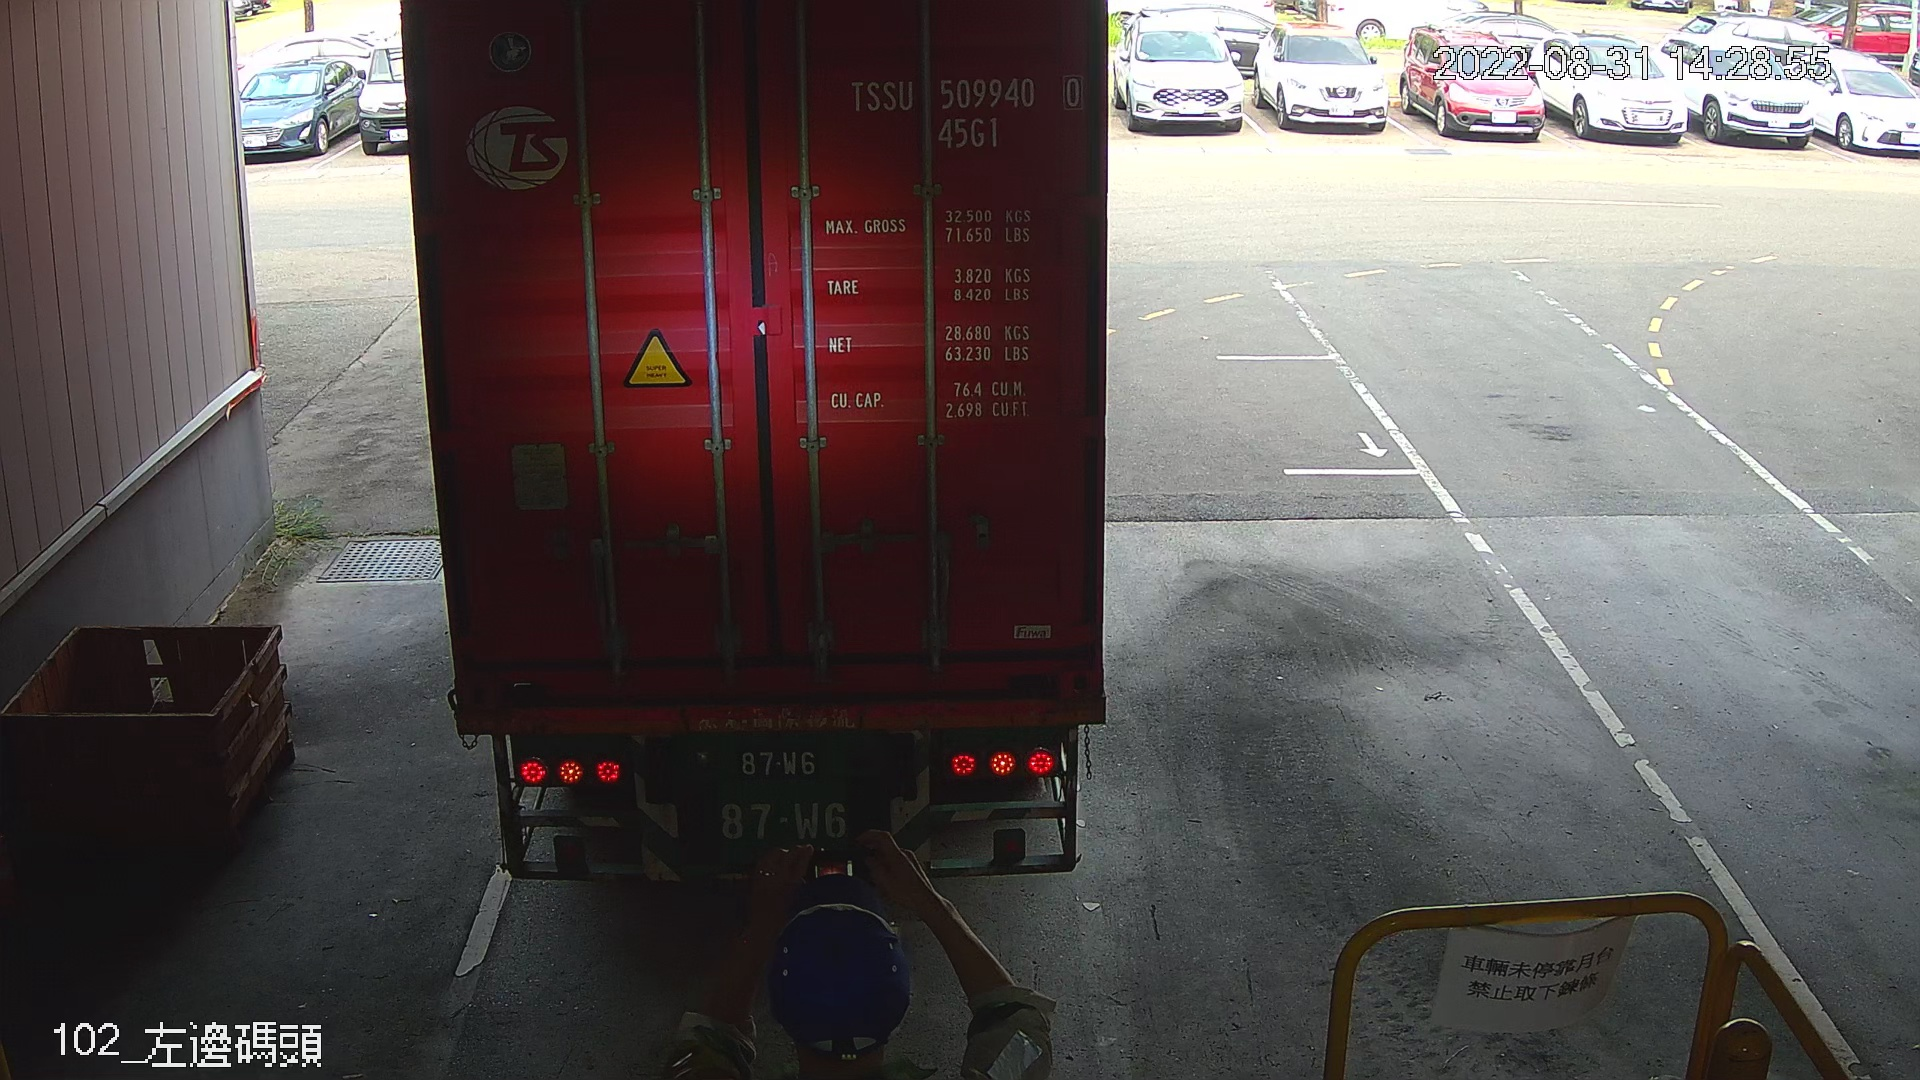container: (837, 65, 1092, 158)
